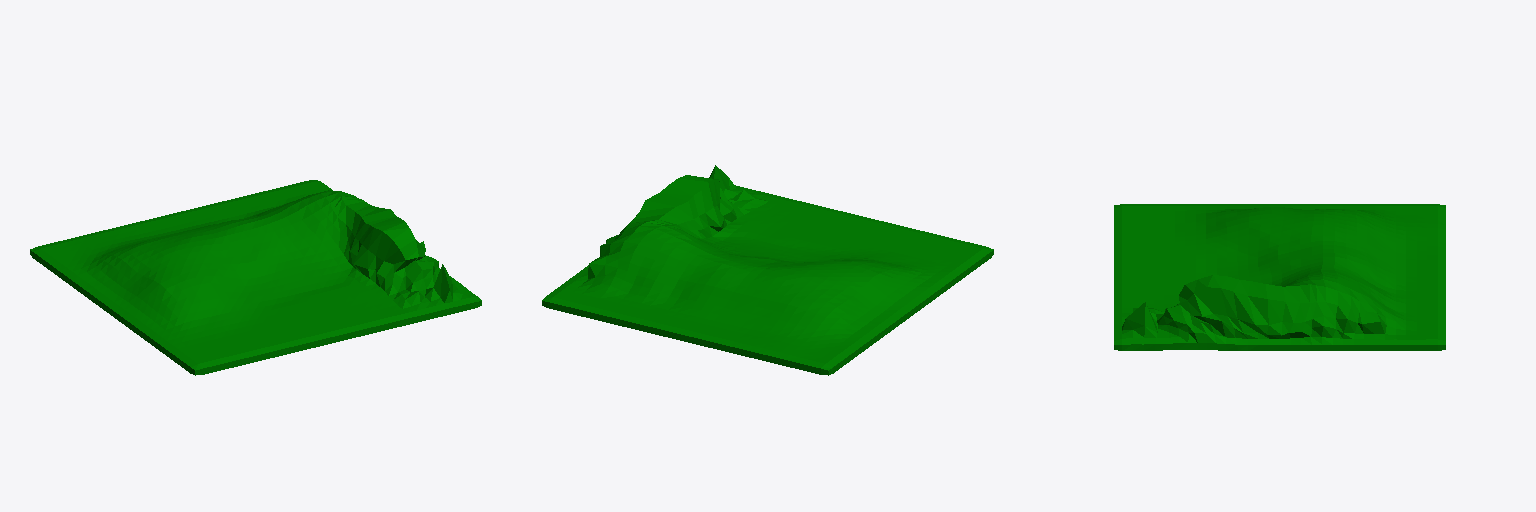
The model's file is IslandMax.obj.
3 views of the same model, side by side, from view 1: azimuth 30°, elevation 25°; view 2: azimuth 150°, elevation 25°; view 3: azimuth 270°, elevation 25° (orthographic).
Parts seen in each view (by area): view 1: Group60882, Group24984, Group35441; view 2: Group60882, Group24984, Group35441; view 3: Group60882, Group35441.
Part boxes in pixels (x1,y1,x2,y2): Group60882: (30, 180, 481, 370); Group24984: (195, 301, 481, 375); Group35441: (30, 250, 194, 374); Group60882: (542, 165, 993, 370); Group24984: (542, 301, 828, 375); Group35441: (829, 250, 993, 374); Group60882: (1114, 204, 1445, 344); Group35441: (1115, 343, 1444, 350).
Size of the model in its own units: 0.3959 by 0.0702 by 0.3959.